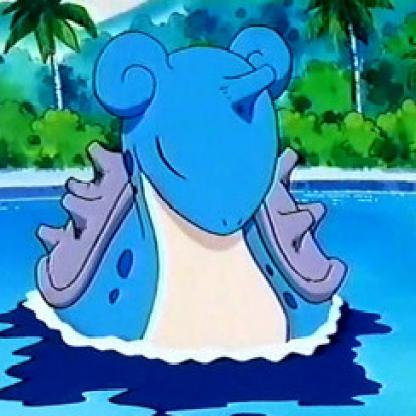Lapras: (60, 51, 345, 362)
